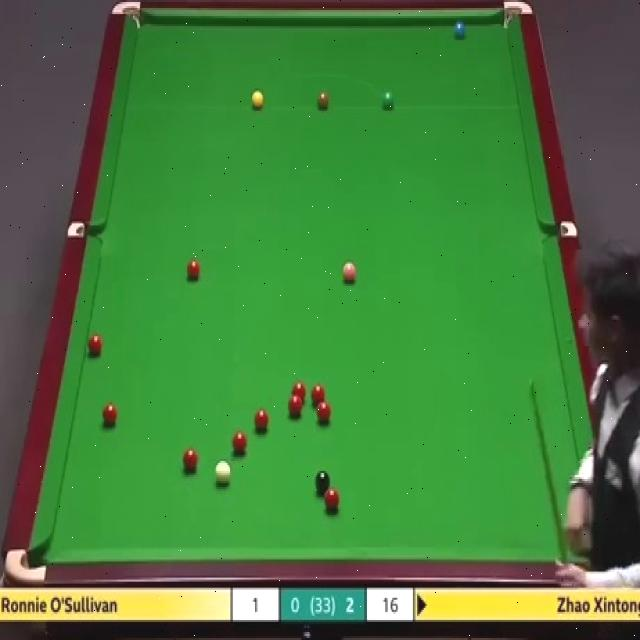black-ball: (313, 468, 332, 496)
blue-ball: (453, 19, 468, 43)
brown-ball: (317, 91, 330, 112)
green-ball: (381, 91, 395, 112)
pink-ball: (342, 260, 358, 286)
red-ball: (100, 400, 118, 430), (181, 447, 200, 475), (86, 334, 104, 359), (232, 430, 248, 458), (324, 488, 340, 515), (185, 256, 201, 282), (254, 410, 270, 434), (287, 395, 303, 419), (290, 381, 307, 402), (317, 401, 331, 424), (310, 385, 326, 404)
white-ball: (213, 459, 233, 486)
yellow-ball: (251, 90, 265, 111)
